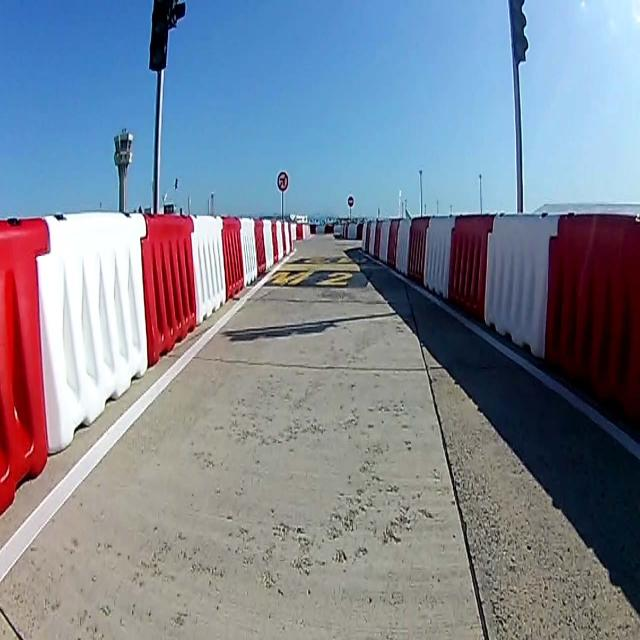soladonulmez: (277, 171, 289, 190)
